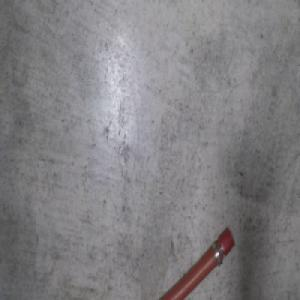Hose: (157, 224, 235, 300)
